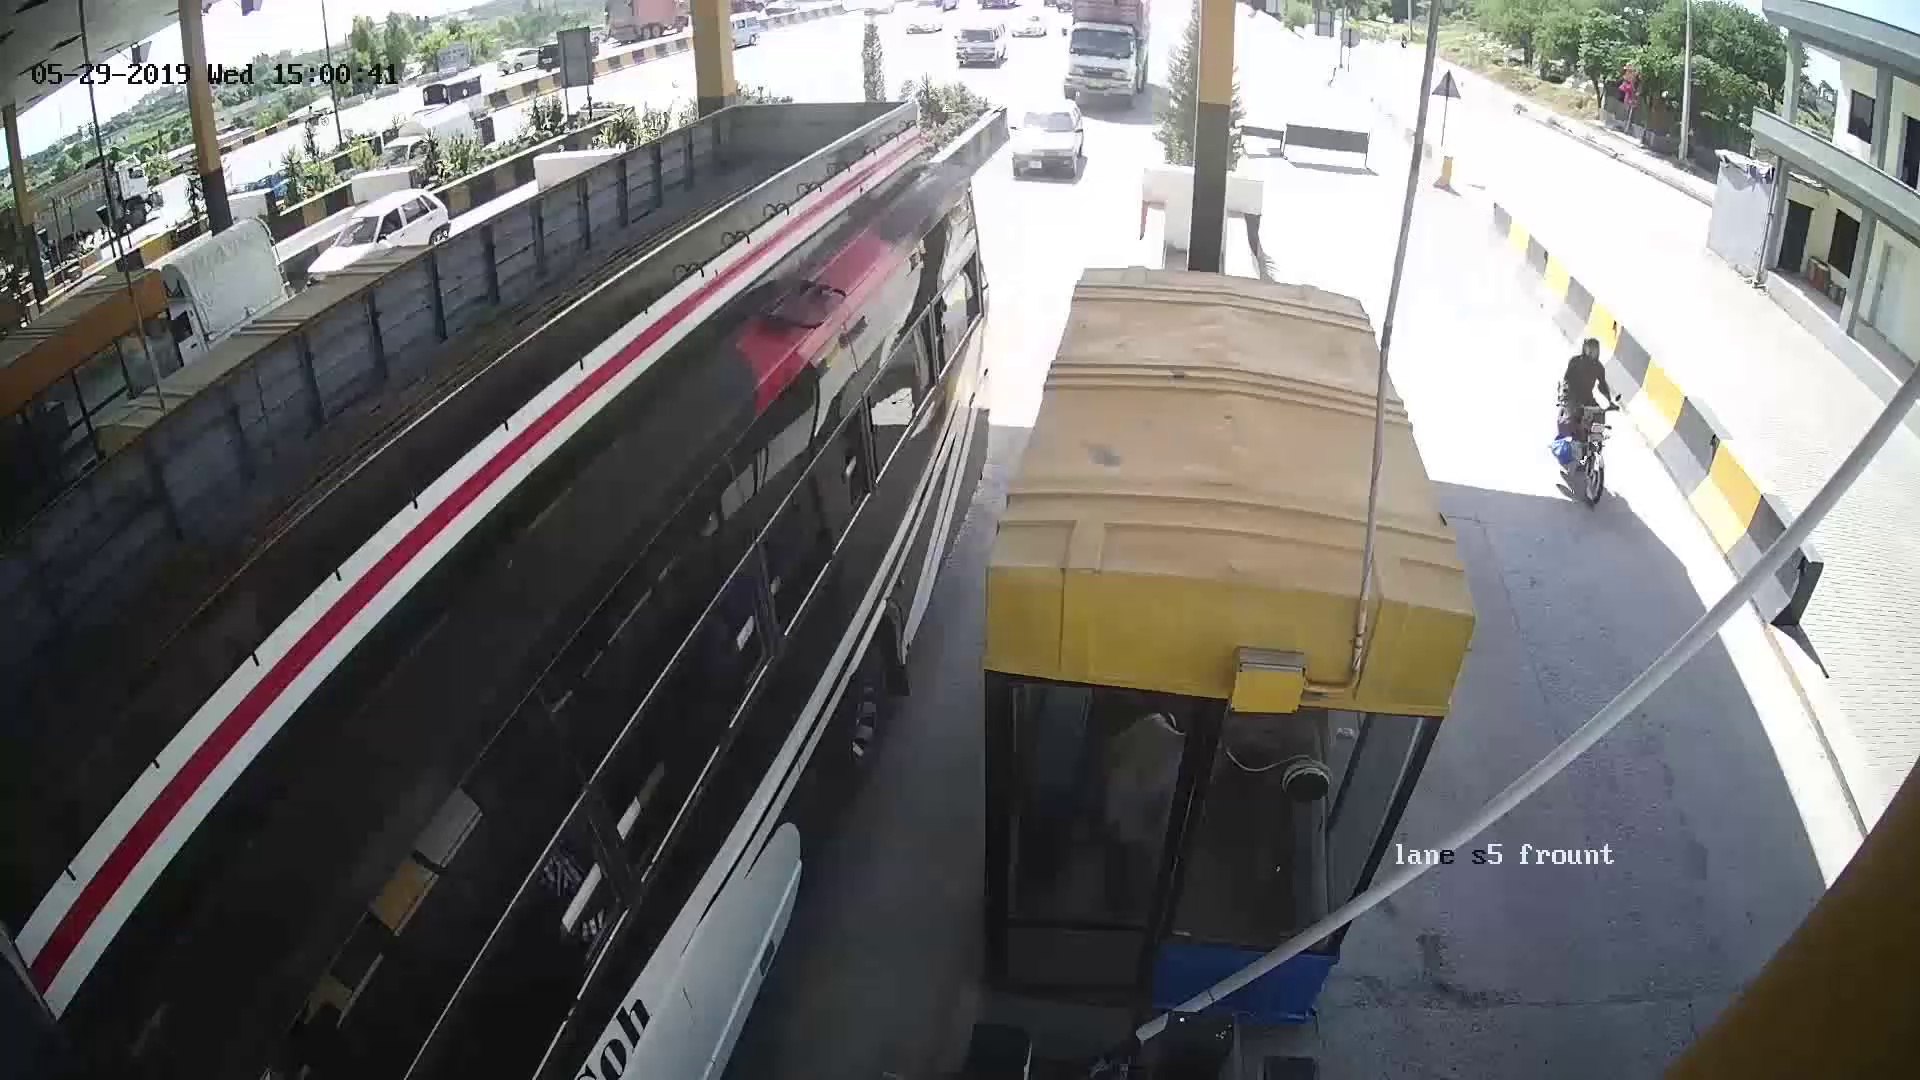bus: (313, 400, 837, 993)
car: (996, 96, 1096, 200)
